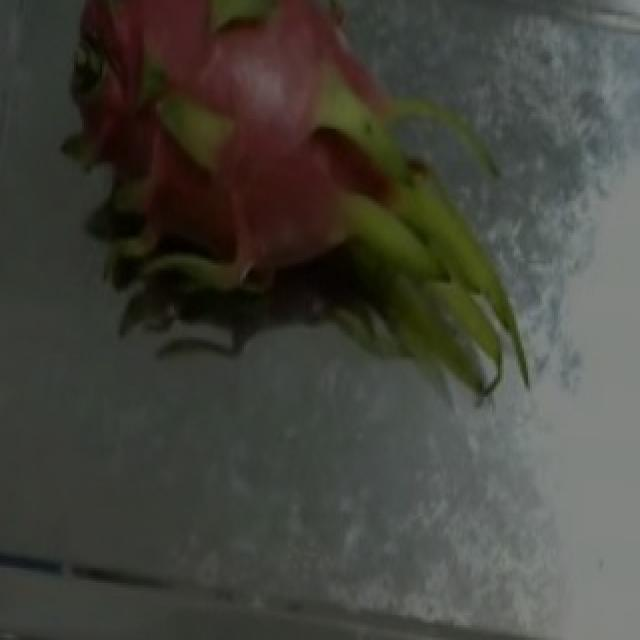fruit: (24, 0, 466, 389)
